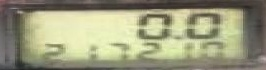-: (169, 35, 179, 40)
0: (182, 11, 217, 37), (134, 12, 167, 37), (195, 39, 223, 59)
1: (179, 40, 192, 59), (83, 42, 95, 61)
2: (37, 41, 63, 61), (134, 40, 157, 61)
7: (103, 40, 129, 61)
